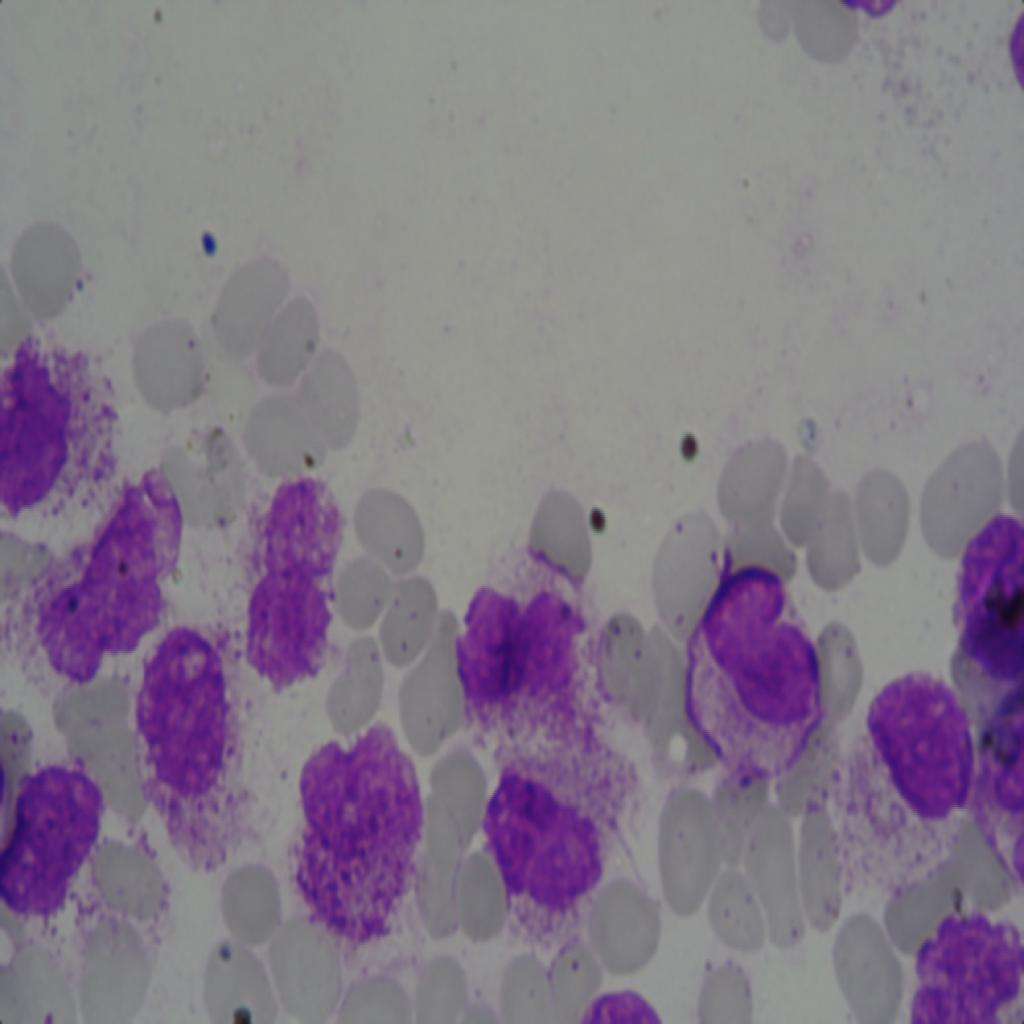Myeoblast: (49, 480, 177, 682), (690, 558, 816, 742), (867, 649, 975, 829), (0, 757, 108, 933), (295, 716, 416, 868), (482, 762, 596, 920), (894, 884, 1022, 1022), (458, 580, 582, 718), (0, 336, 83, 538), (142, 623, 232, 809), (942, 507, 1023, 677), (231, 568, 333, 700), (255, 470, 346, 598)
Platelet: (190, 215, 226, 276)
